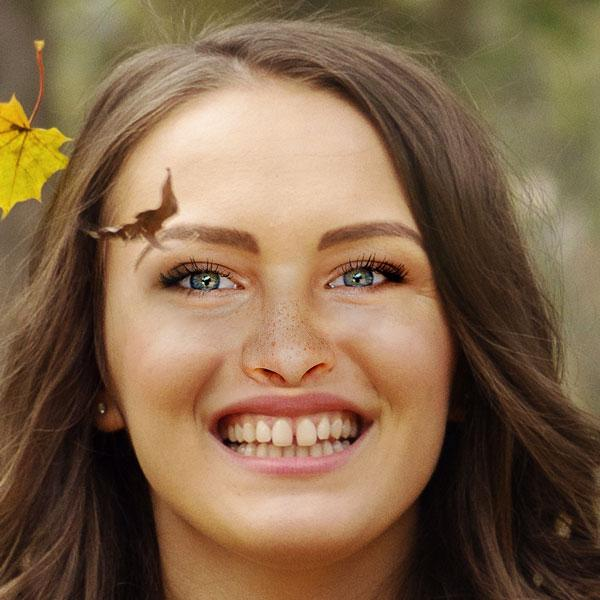Eyes: (145, 248, 255, 314), (312, 248, 417, 309)
